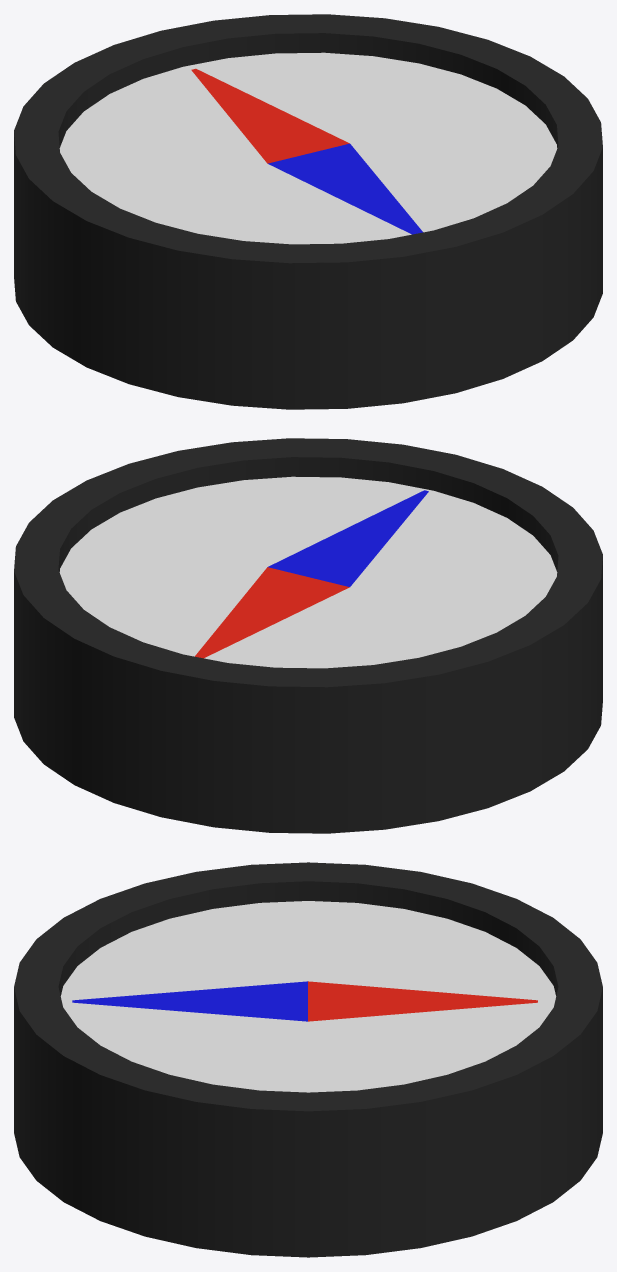
Rendered from CompassCollectible.fbx.
The picture shows the model from 3 angles, top to bottom: view 1: azimuth 30°, elevation 25°; view 2: azimuth 150°, elevation 25°; view 3: azimuth 270°, elevation 25°; orthographic projection.
Parts seen in each view (by area): view 1: Compass; view 2: Compass; view 3: Compass.
Boxes of the visible parts, left/top/right/bottom form: Compass: left=14, top=14, right=602, bottom=409; Compass: left=14, top=438, right=602, bottom=833; Compass: left=14, top=862, right=602, bottom=1257.
Bounding box in the file's own units: 200 × 54.77 × 200.
